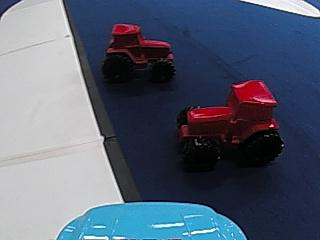Tracktor: (171, 75, 285, 167), (103, 22, 177, 82)
